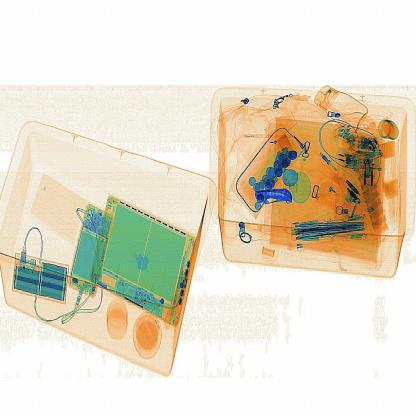knife: (248, 181, 298, 207)
